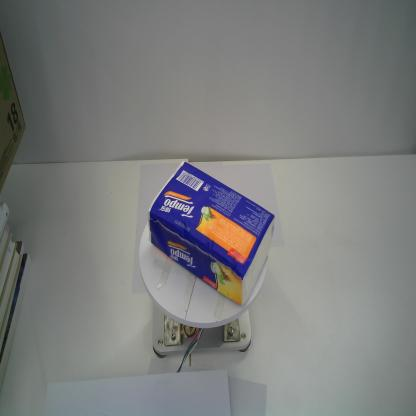Tissue: (148, 160, 275, 306)
